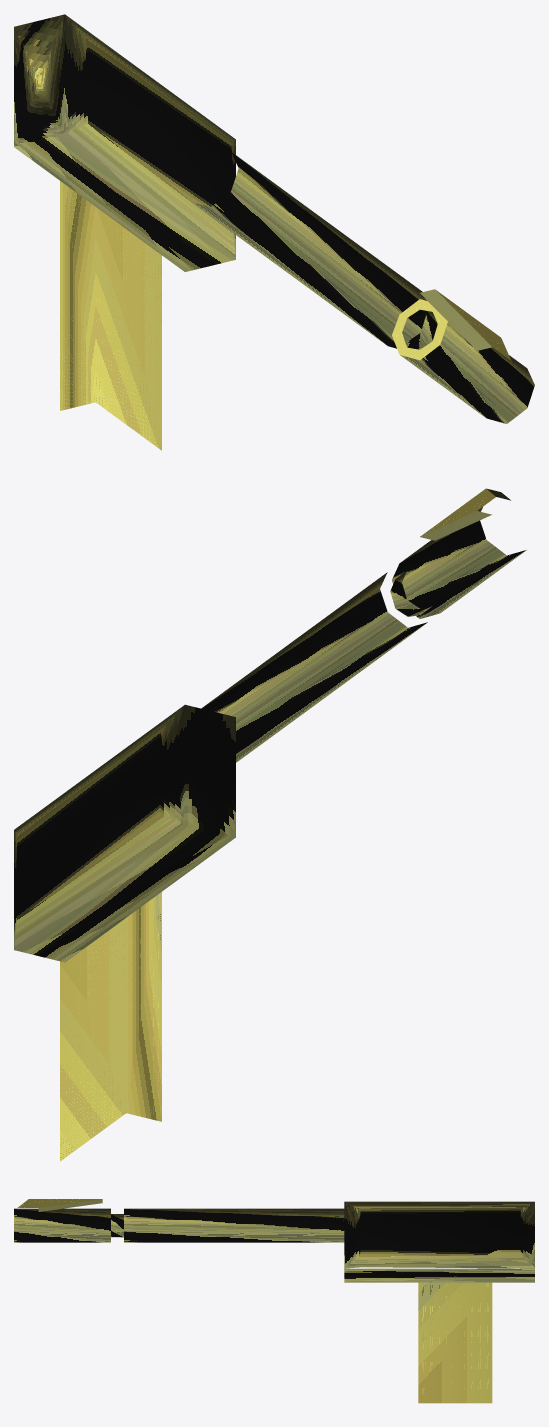
Rendered from gun_handless.glb.
3 renders of one model, top to bottom at view 1: azimuth 30°, elevation 25°; view 2: azimuth 150°, elevation 25°; view 3: azimuth 270°, elevation 25°, orthographic. The views are drawn at different scales.
Parts seen in each view (by area): view 1: m7EnvMappingTexScaleS0.031250TexScaleT0.031250; view 2: m7EnvMappingTexScaleS0.031250TexScaleT0.031250; view 3: m7EnvMappingTexScaleS0.031250TexScaleT0.031250.
Boxes of the visible parts, bbox=[...] form: m7EnvMappingTexScaleS0.031250TexScaleT0.031250: bbox=[14, 14, 534, 450]; m7EnvMappingTexScaleS0.031250TexScaleT0.031250: bbox=[14, 488, 526, 1161]; m7EnvMappingTexScaleS0.031250TexScaleT0.031250: bbox=[14, 1199, 534, 1403].
Size of the model in its own units: 28 by 139 by 317.
1 material, 1 textured.
